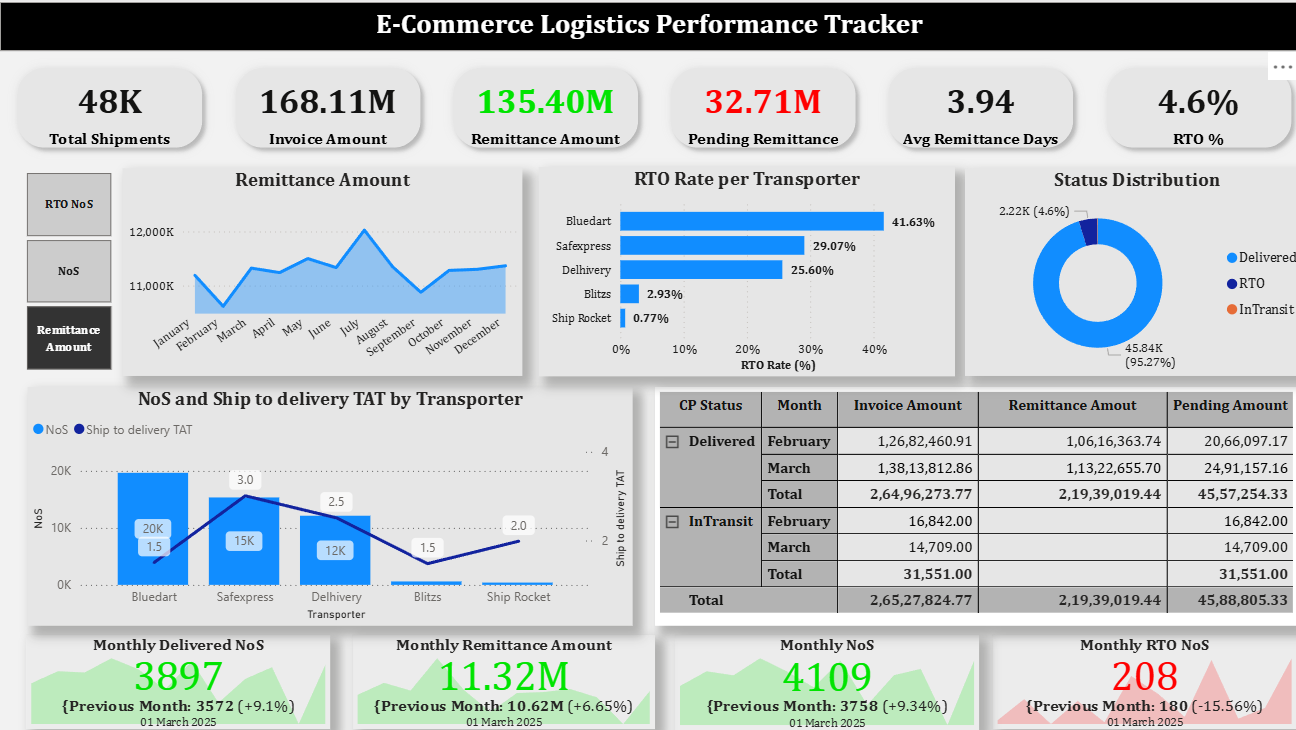

This screenshot's page, from the dashboard's own definition file:
{"tool":"powerbi","page":{"name":"Page 1","canvas":[1280,720],"ordinal":0},"visuals":[{"type":"cardVisual","fields":{"Data":["Measures (2).NoS","Measures (2).Invoice Amt","Measures (2).Remittance Amt","Measures (2).Pending Remittance","Measures (2).avg remittance day","Measures (2).RTO %"]},"box":[0,0,1280,133.3],"z":0},{"type":"kpi","title":"Monthly RTO NoS","fields":{"Indicator":["Measures (2).RTO NoS"],"TrendLine":["Working.Start of Month"],"Goal":["Measures (2).Previous month RTO"]},"box":[1044.4,591.9,225.1,124.1],"z":1000,"group":"g1"},{"type":"lineChart","fields":{"Y":["Measures (2).RTO NoS"],"Category":["Working.Start of Month.Variation.Date Hierarchy.Month"]},"box":[119.7,135.6,391,203.4],"z":1000},{"type":"kpi","title":"Monthly NoS","fields":{"Indicator":["Measures (2).NoS"],"Goal":["Measures (2).Previous Month NoS"],"TrendLine":["Working.Start of Month"]},"box":[809.2,591.9,225.1,125.5],"z":3000,"group":"g1"},{"type":"barChart","title":"RTO Rate per Transporter","fields":{"Category":["Working.Transporter"],"Y":["Measures (2).RTO NoS"]},"box":[526.6,134.2,406.9,204.9],"z":3000},{"type":"donutChart","title":"Status Distribution","fields":{"Category":["Working.CP Status"],"Y":["Measures (2).NoS"]},"box":[943.6,135.6,336.2,203.4],"z":4000},{"type":"kpi","title":"Monthly Remittance Amount","fields":{"Indicator":["Measures (2).Remittance Amt"],"Goal":["Measures (2).Previous Month Remittance"],"TrendLine":["Working.Start of Month"]},"box":[571.1,591.9,223.6,124.1],"z":5000,"group":"g1"},{"type":"slicer","fields":{"Values":["Parameter.Parameter"]},"box":[0,132.7,132.7,206.3],"z":5000},{"type":"group","id":"g1","title":"Group 1","box":[330.2,591.9,940.4,126],"z":6000},{"type":"lineStackedColumnComboChart","fields":{"Category":["Working.Transporter"],"Y":["Measures (2).NoS"],"Y2":["Measures (2).Ship to delivery TAT"]},"box":[119.8,348.5,485.5,220.1],"z":6001},{"type":"kpi","title":"Monthly Delivered NoS","fields":{"TrendLine":["Working.Start of Month"],"Indicator":["Measures (2).delivered NoS"],"Goal":["Measures (2).Previous month Delivered Nos"]},"box":[330.2,591.9,225.1,124.1],"z":7000,"group":"g1"}]}

Visuals, with their boxes in screenshot pixels (x1, y1, x2, y2), scaled from the page's 1280x720 canvas onto the 1296x730 screenshot:
cardVisual - Measures (2).NoS x Measures (2).Invoice Amt: [x1=0, y1=0, x2=1295, y2=135]
"Monthly RTO NoS" kpi: [x1=1057, y1=600, x2=1285, y2=726]
lineChart - Measures (2).RTO NoS x Working.Start of Month.Variation.Date Hierarchy.Month: [x1=121, y1=137, x2=517, y2=344]
"Monthly NoS" kpi: [x1=819, y1=600, x2=1047, y2=727]
"RTO Rate per Transporter" barChart: [x1=533, y1=136, x2=945, y2=344]
"Status Distribution" donutChart: [x1=955, y1=137, x2=1295, y2=344]
"Monthly Remittance Amount" kpi: [x1=578, y1=600, x2=805, y2=726]
slicer - Parameter.Parameter: [x1=0, y1=135, x2=134, y2=344]
"Group 1" group: [x1=334, y1=600, x2=1286, y2=728]
lineStackedColumnComboChart - Working.Transporter x Measures (2).NoS: [x1=121, y1=353, x2=613, y2=576]
"Monthly Delivered NoS" kpi: [x1=334, y1=600, x2=562, y2=726]
